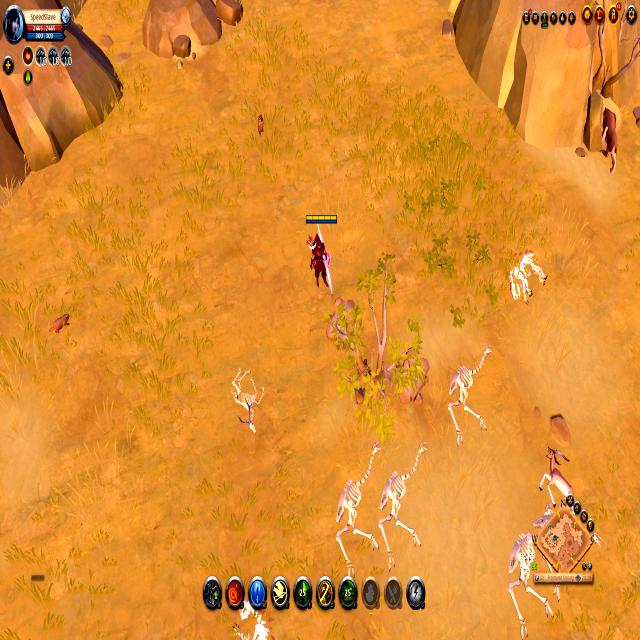mob: (539, 444, 575, 514)
ore: (597, 103, 619, 174)
red: (304, 211, 337, 293)
